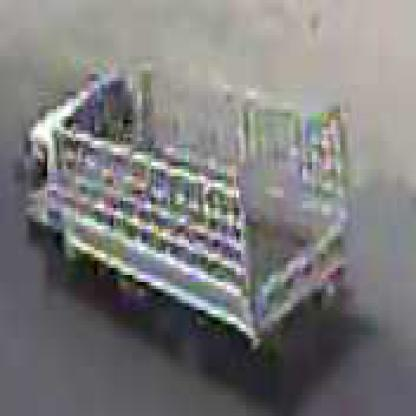truck: (29, 65, 351, 368)
